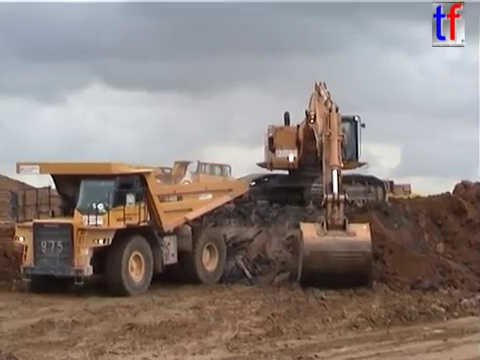excavator: (229, 79, 388, 291)
truck: (8, 159, 251, 298), (105, 159, 236, 199), (364, 178, 414, 206)
